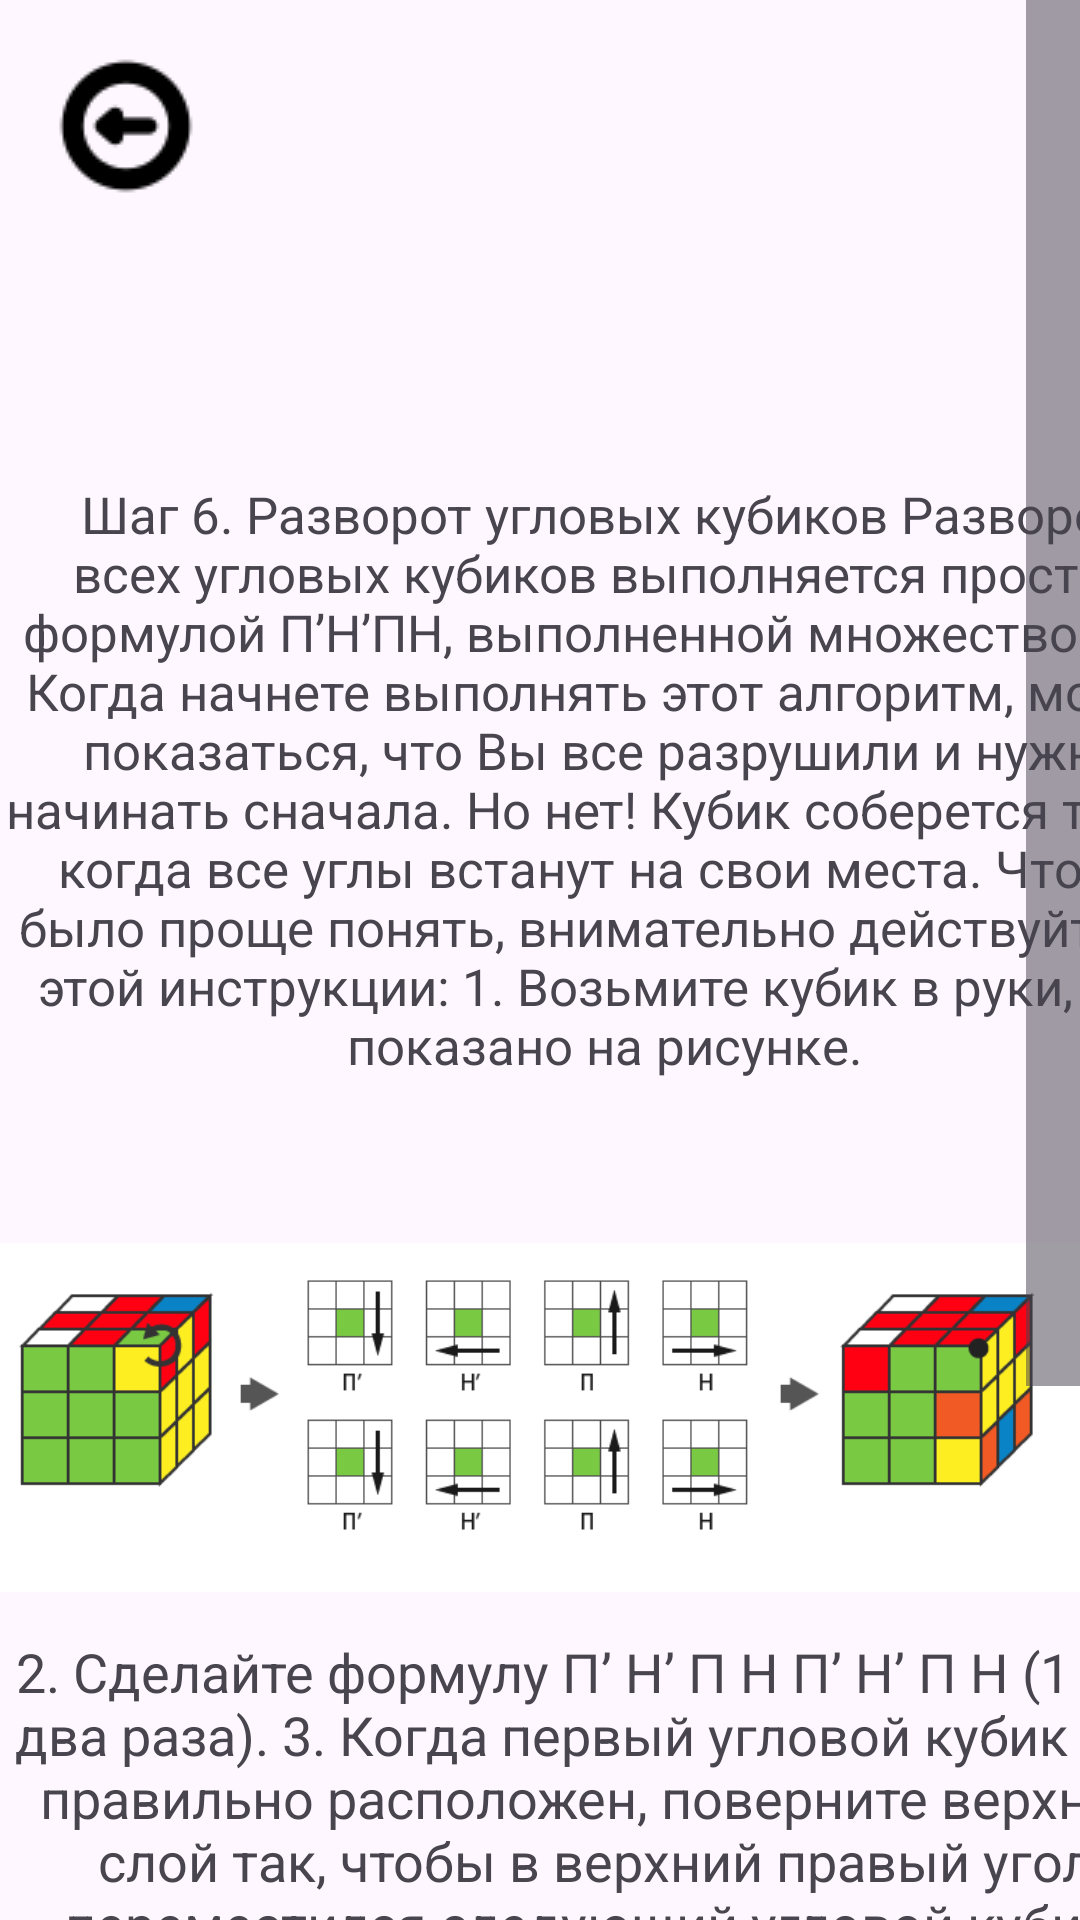

Locate icon controls on the screen. Image size 1080 × 1920, boxes as BBox(x1, y1, x2, y2).
back: BBox(59, 59, 193, 193)
